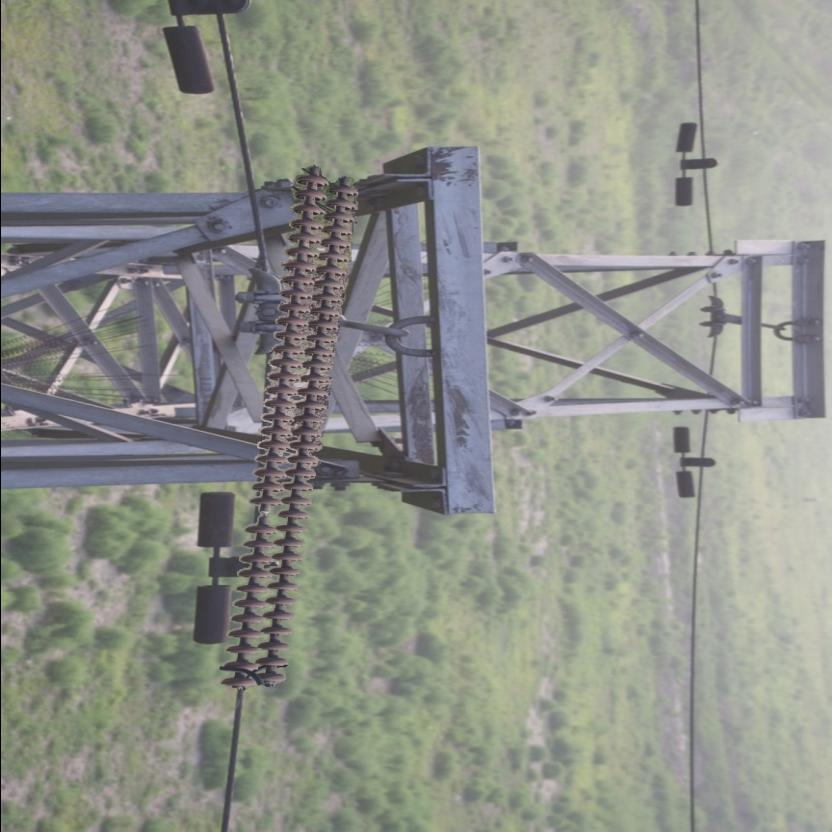defect: (240, 491, 284, 538)
